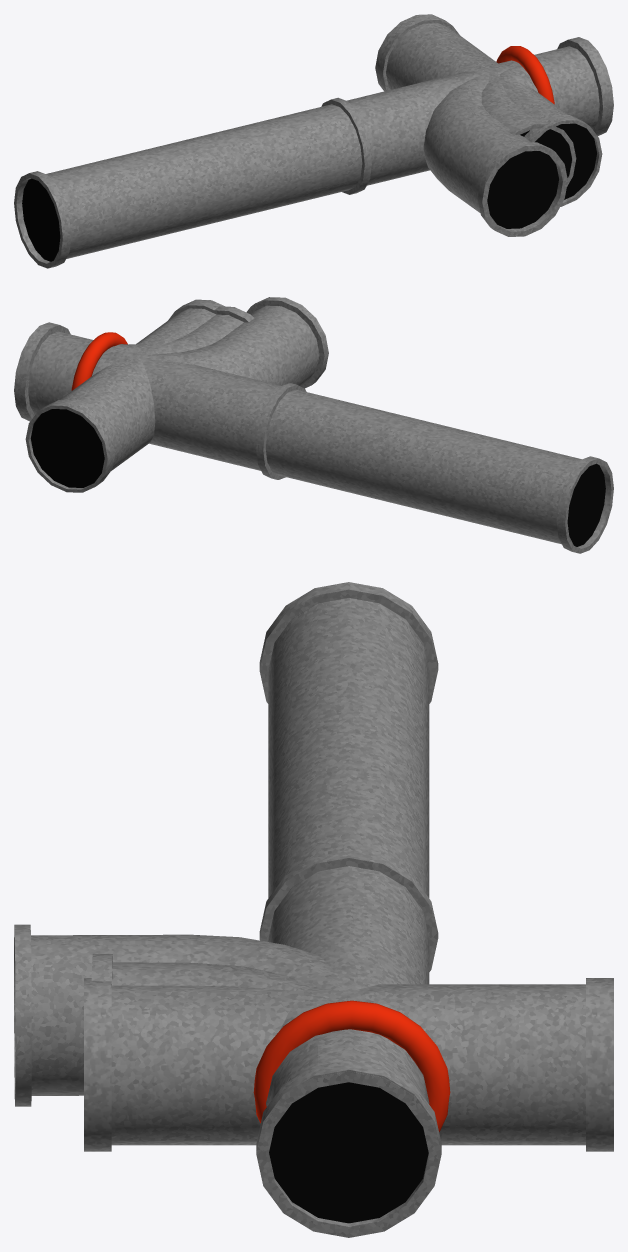
File: MP_SteelModularPipesPaclk001.fbx
The picture shows the model from 3 angles, top to bottom: view 1: azimuth 30°, elevation 25°; view 2: azimuth 150°, elevation 25°; view 3: azimuth 270°, elevation 25°; orthographic projection. The views are drawn at different scales.
Parts seen in each view (by area): view 1: MP_SteelStraightPipe, MP_SteelCurve_001, MP_SteelTPipe_001, MP_SteelStraight_002, MP_SteelCurve_002, MP_SteelValve_001.; view 2: MP_SteelStraightPipe, MP_SteelTPipe_001, MP_SteelCurve_001, MP_SteelCurve_002, MP_SteelValve_001., MP_SteelStraight_002; view 3: MP_SteelTPipe_001, MP_SteelStraightPipe, MP_SteelCurve_001, MP_SteelStraight_002, MP_SteelValve_001., MP_SteelCurve_002.
Part boxes in pixels (x1,y1,x2,y2): MP_SteelStraightPipe: (14, 58, 598, 268); MP_SteelCurve_001: (423, 67, 567, 236); MP_SteelTPipe_001: (375, 14, 613, 206); MP_SteelStraight_002: (321, 60, 599, 194); MP_SteelCurve_002: (481, 58, 576, 186); MP_SteelValve_001.: (496, 46, 599, 129); MP_SteelStraightPipe: (139, 356, 613, 553); MP_SteelTPipe_001: (14, 299, 225, 492); MP_SteelCurve_001: (55, 297, 328, 400); MP_SteelCurve_002: (86, 306, 254, 353); MP_SteelValve_001.: (28, 332, 127, 414); MP_SteelStraight_002: (256, 383, 306, 479); MP_SteelTPipe_001: (84, 978, 613, 1237); MP_SteelStraightPipe: (259, 582, 438, 1234); MP_SteelCurve_001: (14, 924, 439, 1236); MP_SteelStraight_002: (259, 851, 438, 1220); MP_SteelValve_001.: (253, 1000, 450, 1194); MP_SteelCurve_002: (91, 953, 421, 1219).
Size of the model in its own units: 1445 by 246 by 746.
Materials: 8 (6 with a texture image).
